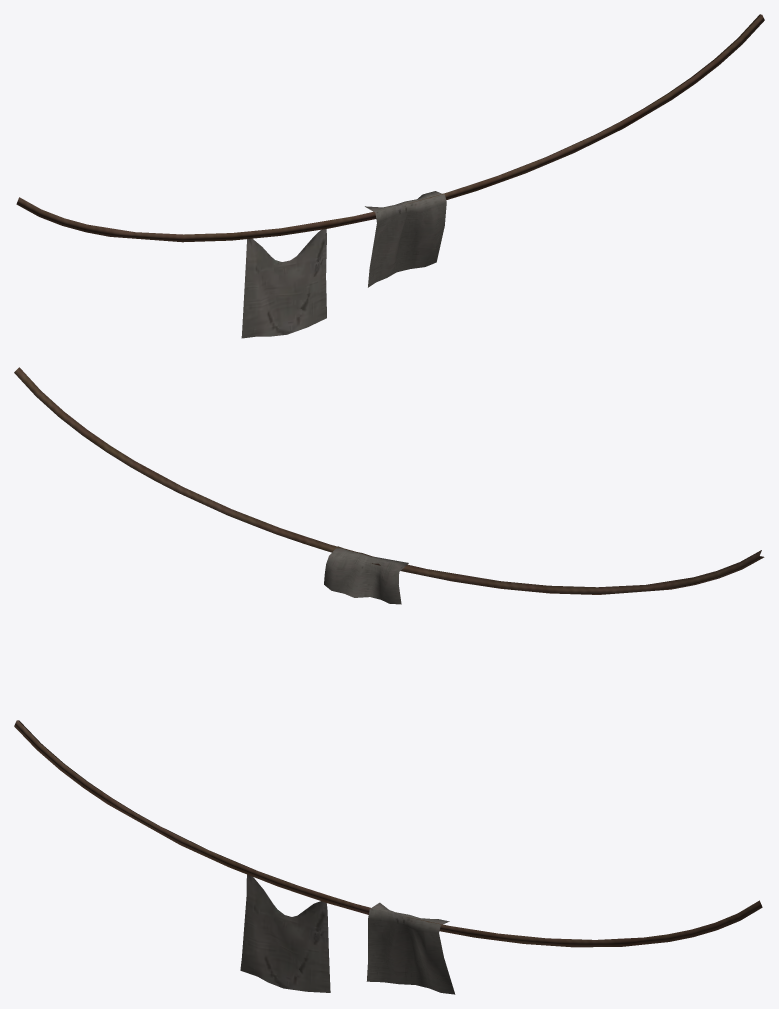
File: CLO_Drying_Clothes_D-transformed.glb
3 views of the same model, one above another, from view 1: azimuth 30°, elevation 25°; view 2: azimuth 150°, elevation 25°; view 3: azimuth 330°, elevation 25° (orthographic).
Visible parts, largest first — view 1: default; view 2: default; view 3: default.
Boxes of the visible parts, x1,y1,x2,y2 form: default: (16, 14, 764, 338); default: (14, 367, 764, 604); default: (14, 720, 762, 994).
Bounding box in the file's own units: 2.75 × 0.7159 × 0.1104.
1 material, 1 textured.
